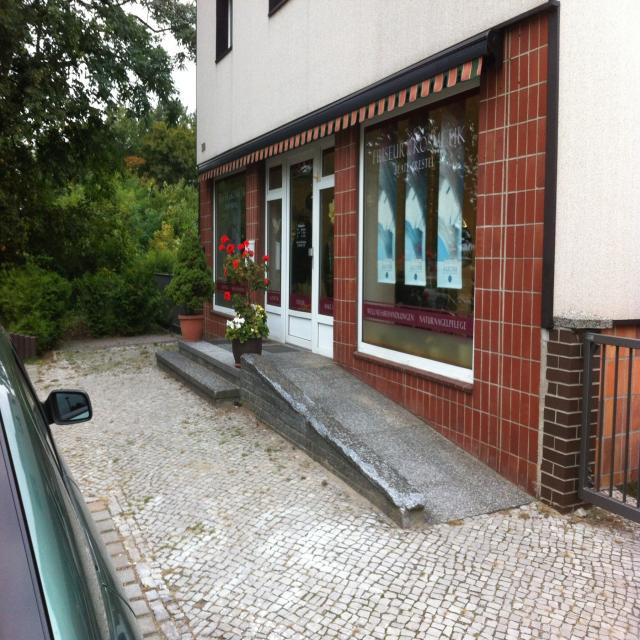AVOID: (155, 341, 238, 406)
CLIMB: (242, 355, 536, 525)
